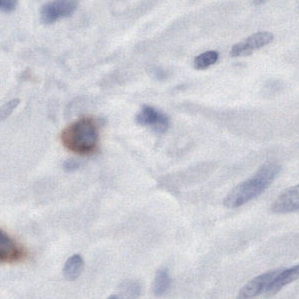Lymphocyte: (59, 119, 100, 152)
